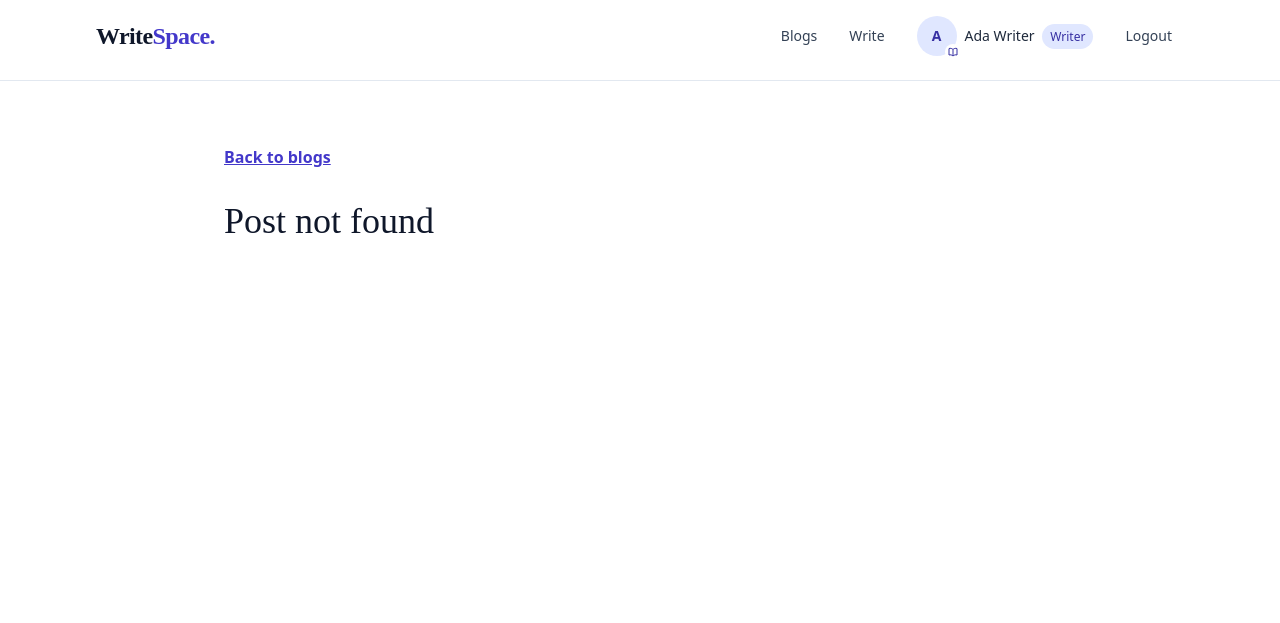
it: reading and navigation › shows the exact missing state and returns to the list only when back is clicked
The width and height of the screenshot is (1280, 623).
Expected: the heading "Post not found" is shown, [224, 201, 434, 241]
Click the link "Back to blogs".
click(277, 157)  # box [224, 146, 331, 168]
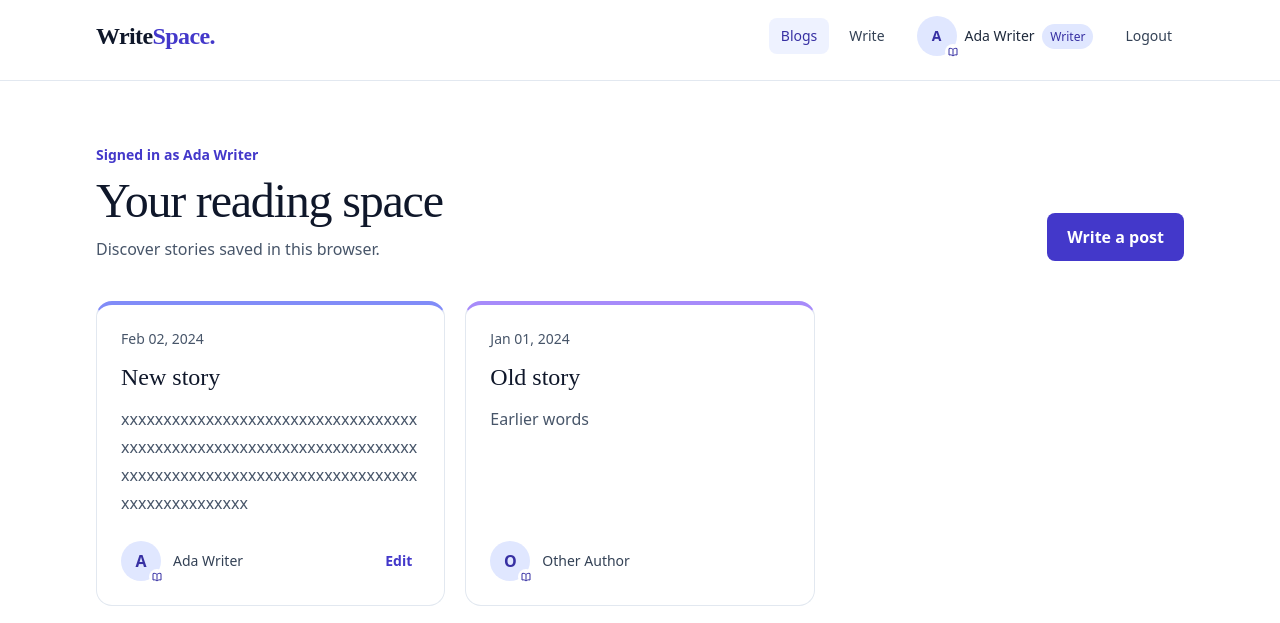
Expected: the heading "Your reading space" is shown, [96, 177, 443, 225]
